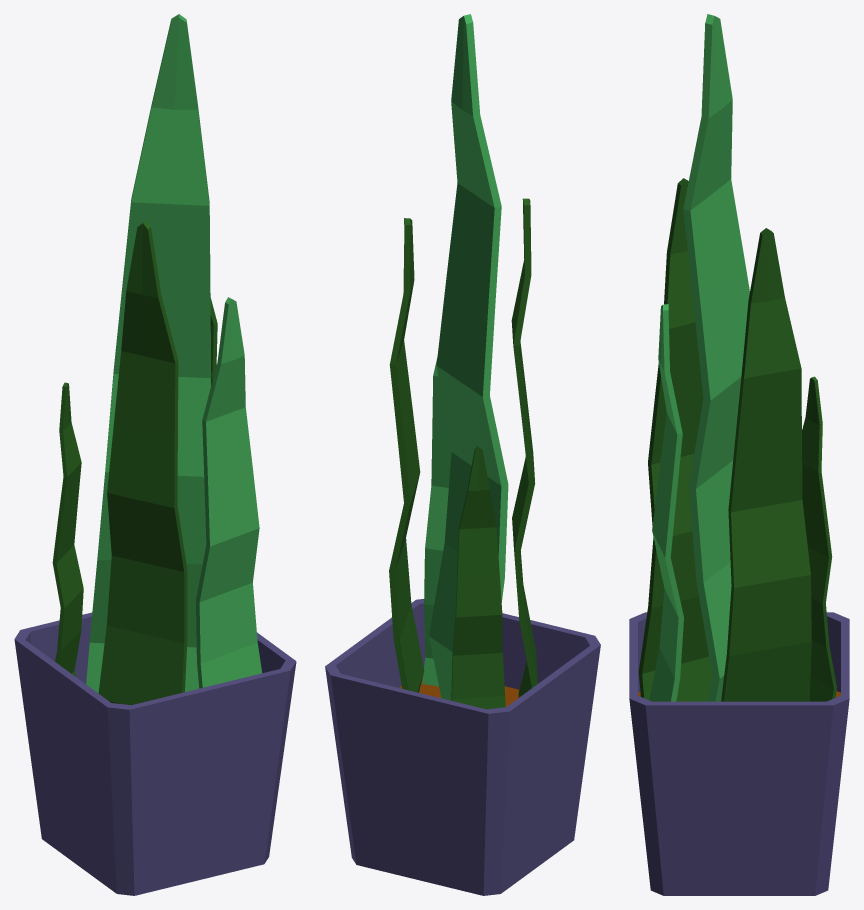
File: StorPlante_2.fbx
The picture shows the model from 3 angles, left to right: view 1: azimuth 30°, elevation 25°; view 2: azimuth 150°, elevation 25°; view 3: azimuth 270°, elevation 25°; orthographic projection. The views are drawn at different scales.
Parts seen in each view (by area): view 1: StorPlante_2, StorPlantPotte_2; view 2: StorPlantPotte_2, StorPlante_2; view 3: StorPlante_2, StorPlantPotte_2.
Part boxes in pixels (x1=…): StorPlante_2: x1=52, y1=14, x2=262, y2=705; StorPlantPotte_2: x1=14, y1=612, x2=296, y2=895; StorPlantPotte_2: x1=325, y1=599, x2=600, y2=895; StorPlante_2: x1=389, y1=14, x2=537, y2=709; StorPlante_2: x1=638, y1=14, x2=836, y2=701; StorPlantPotte_2: x1=629, y1=612, x2=849, y2=895.
Bounding box in the file's own units: 51.01 × 217 × 51.01.
